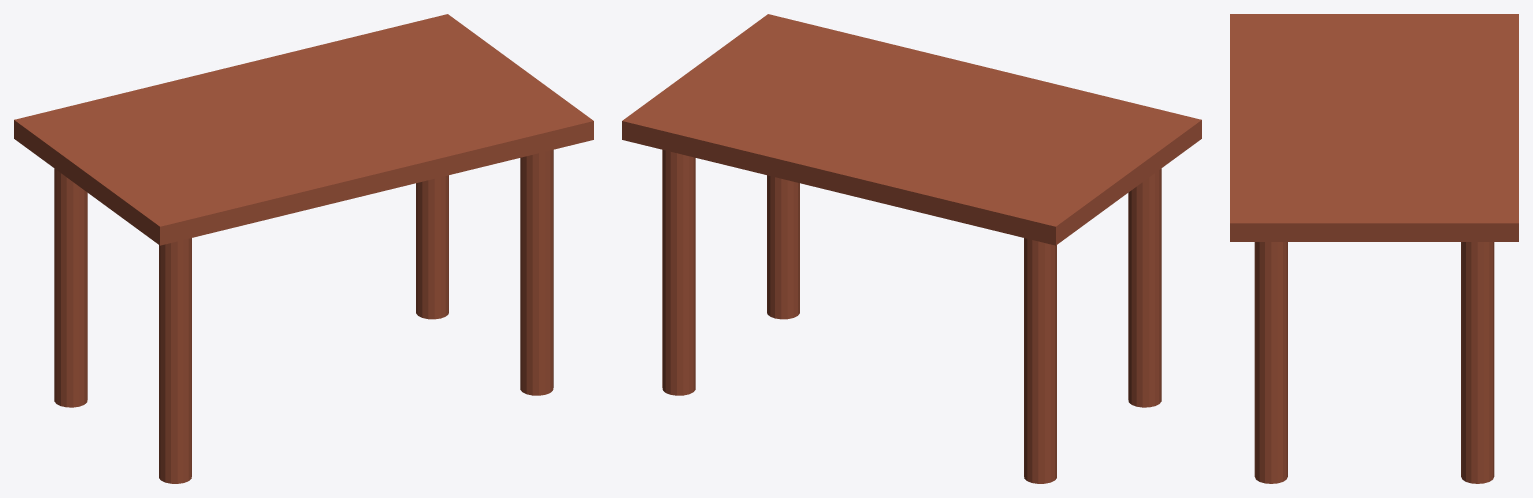
Rendered from Table.obj.
The picture shows the model from 3 angles, left to right: view 1: azimuth 30°, elevation 25°; view 2: azimuth 150°, elevation 25°; view 3: azimuth 270°, elevation 25°; orthographic projection.
Visible parts, largest first — view 1: Table; view 2: Table; view 3: Table.
Part boxes in pixels (x1,y1,x2,y2): Table: (14, 14, 593, 483); Table: (622, 14, 1201, 483); Table: (1230, 14, 1518, 483).
Size of the model in its own units: 1.2 by 0.725 by 0.7.
